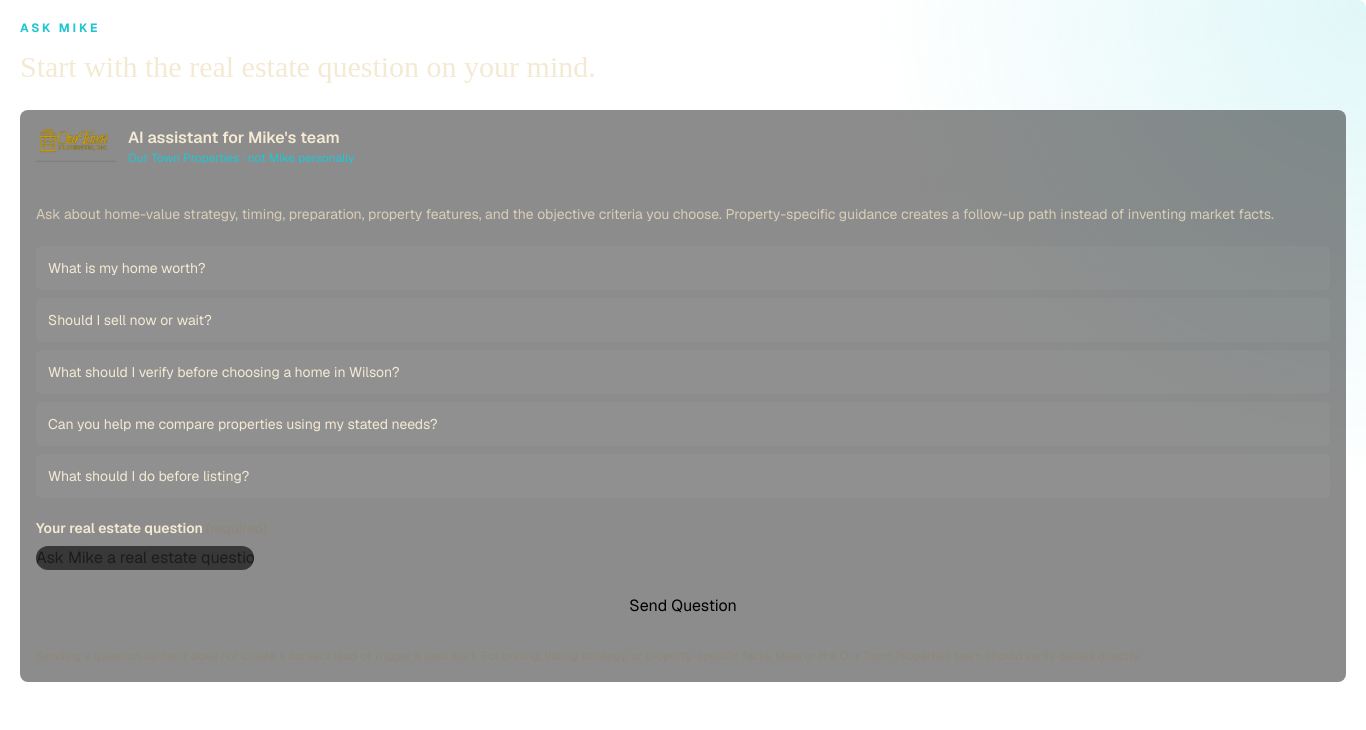
Test: Ask Mike conversion clarity and keyboard access › cancels an in-flight answer without creating or submitting a handoff
Type "How do I buy?" into the field labelled "Your real estate question (required)" at (145, 558), box [36,546,254,570]
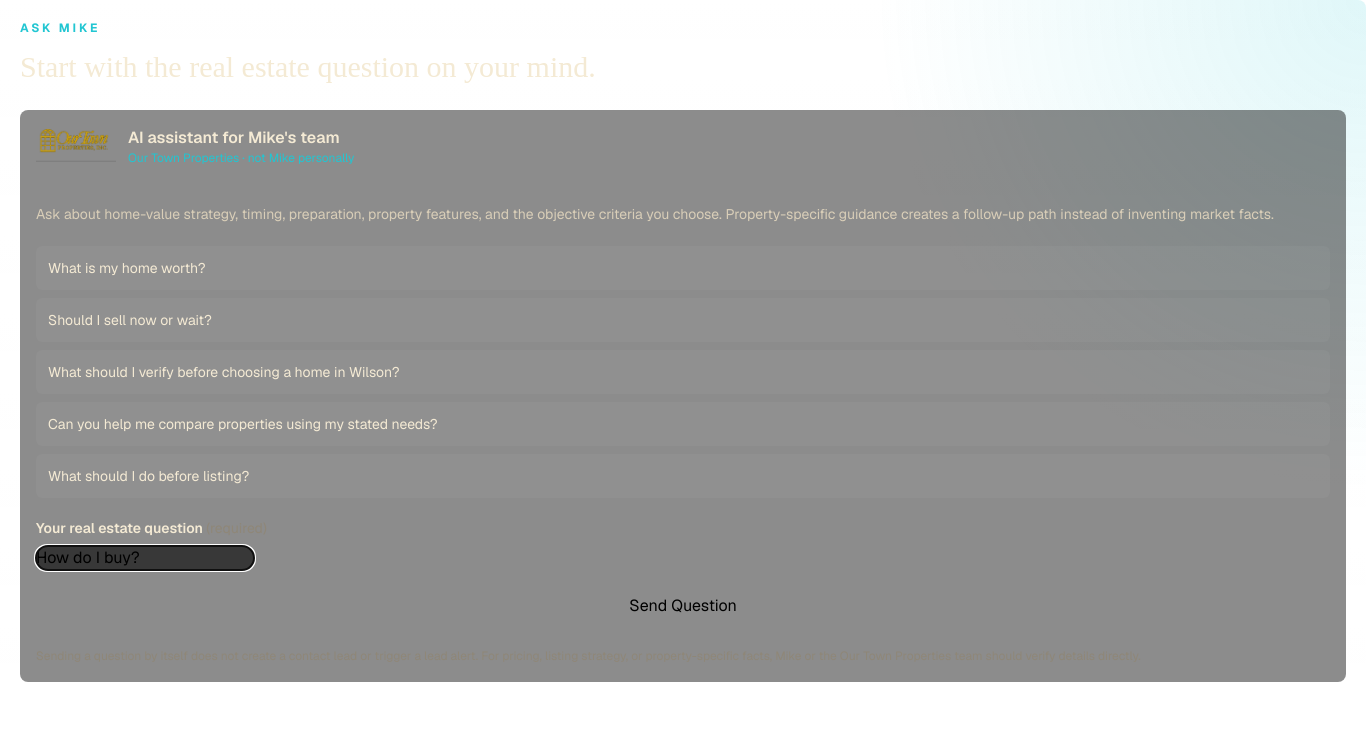
Click the button "Send Question" at (683, 606), box [36,582,1330,630]
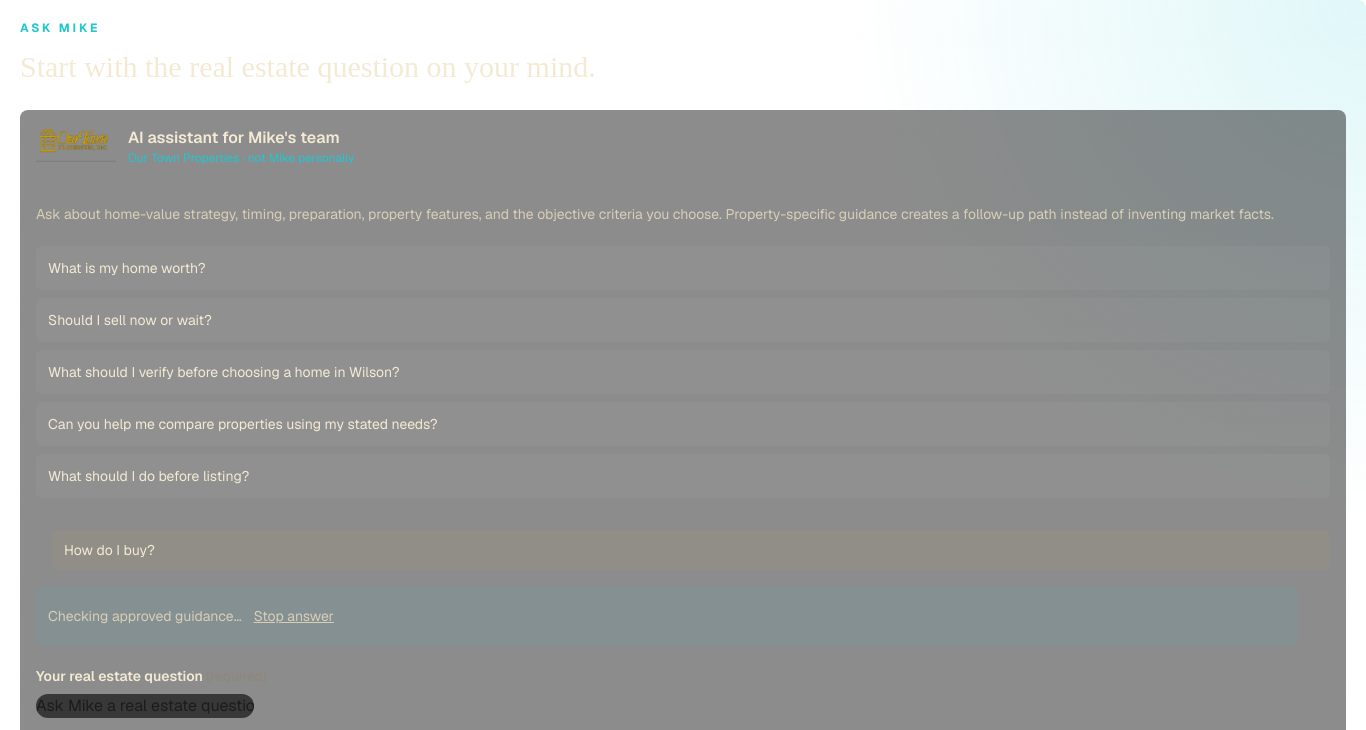
Click the button "Stop answer" at (294, 616), box [254,594,334,638]
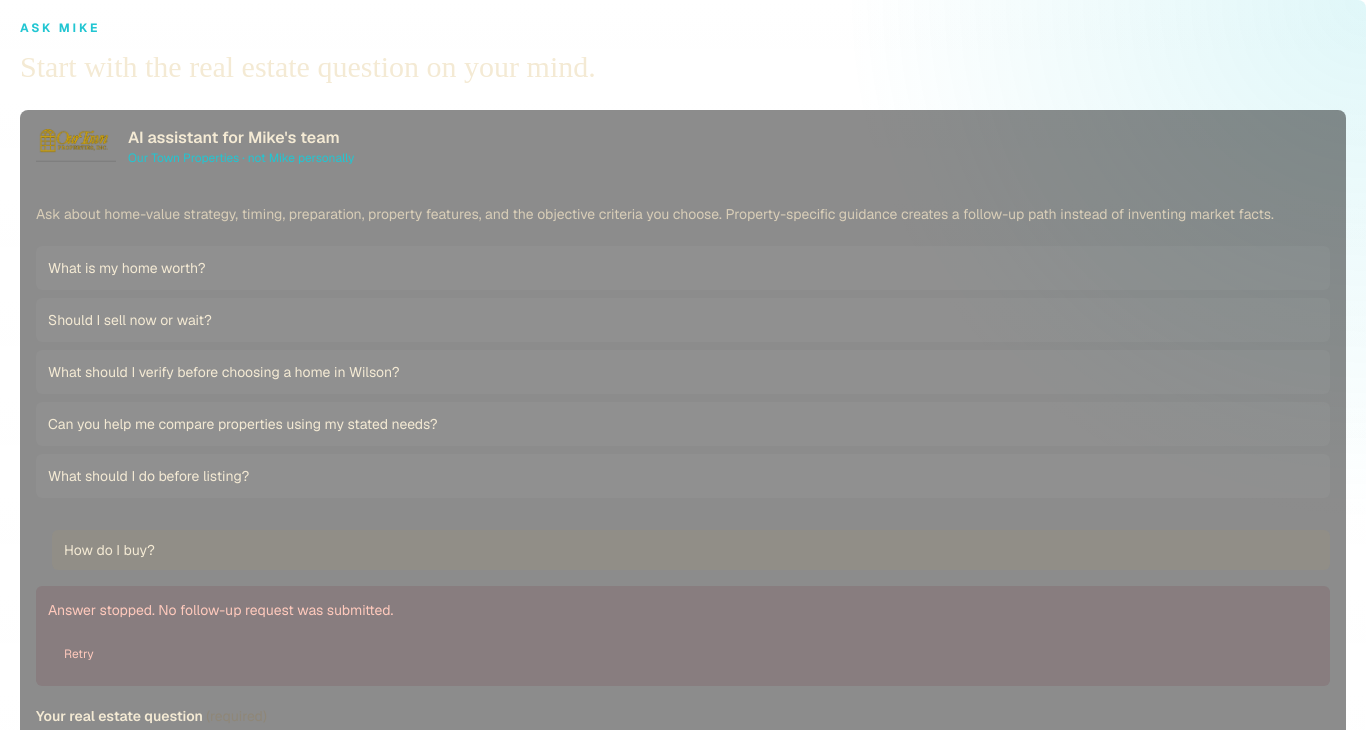
Check: the message shows "No follow-up request was submitted", box [48,600,393,618]
